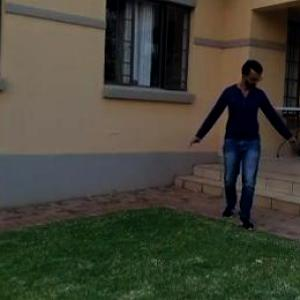land: (185, 57, 293, 236)
